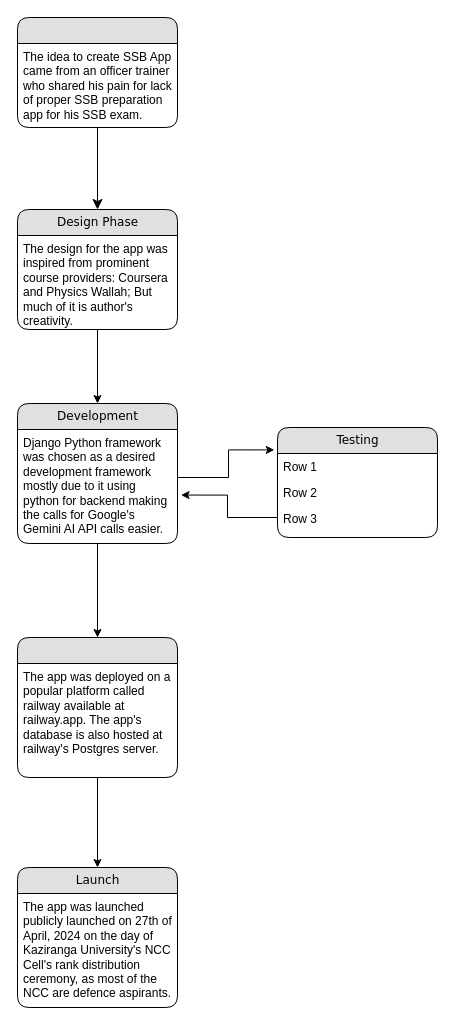
The diagram is 455 pixels wide and 1028 high, and some of its shapes have lost their labels. Here are the shapes that lost their labels. From the top down, the box of each, then its label:
(16, 16, 178, 128): Conceptualization
(16, 636, 178, 778): Deployment
